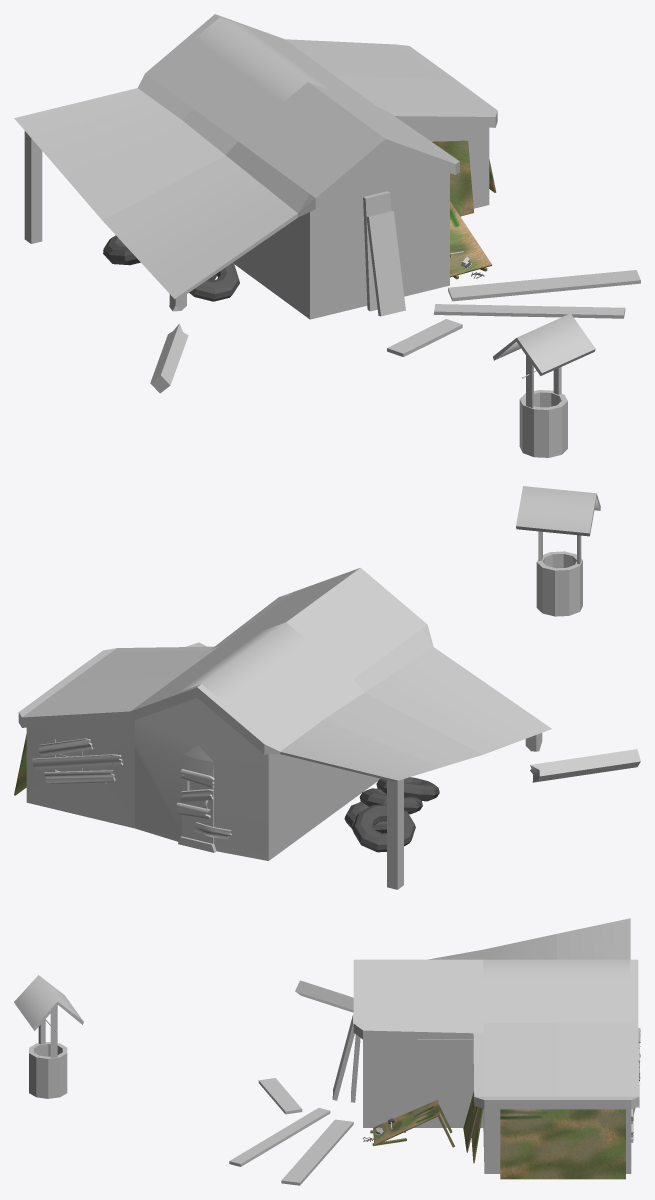
File: Hus1.fbx
The picture shows the model from 3 angles, top to bottom: view 1: azimuth 30°, elevation 25°; view 2: azimuth 150°, elevation 25°; view 3: azimuth 270°, elevation 25°; orthographic projection. The views are drawn at different scales.
Parts seen in each view (by area): view 1: polySurface8; view 2: polySurface8; view 3: polySurface8.
Part boxes in pixels (left/top/right/bottom): polySurface8: left=14, top=14, right=640, bottom=457; polySurface8: left=14, top=486, right=640, bottom=889; polySurface8: left=14, top=918, right=640, bottom=1185.
Size of the model in its own units: 43.65 by 14.74 by 58.83.
